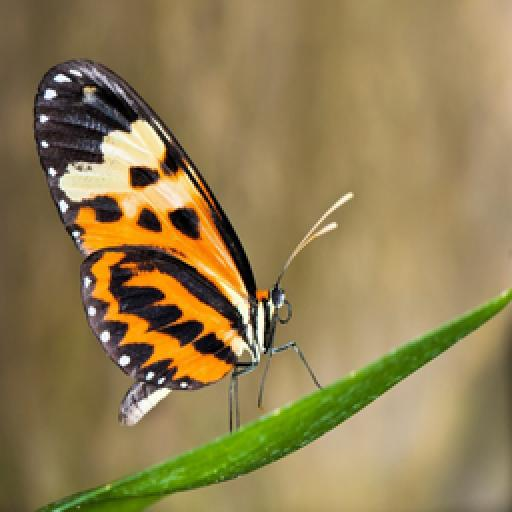insects: (33, 53, 355, 436)
